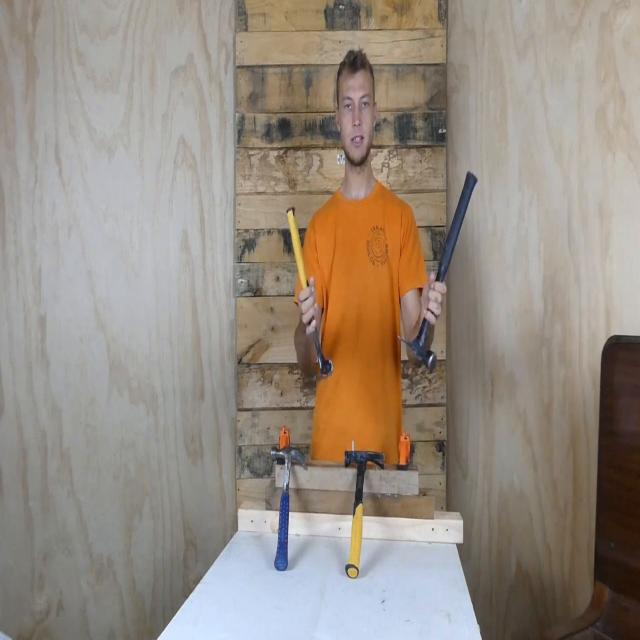hammer: (393, 167, 480, 383), (285, 202, 335, 384), (342, 442, 388, 592), (265, 440, 313, 575)
